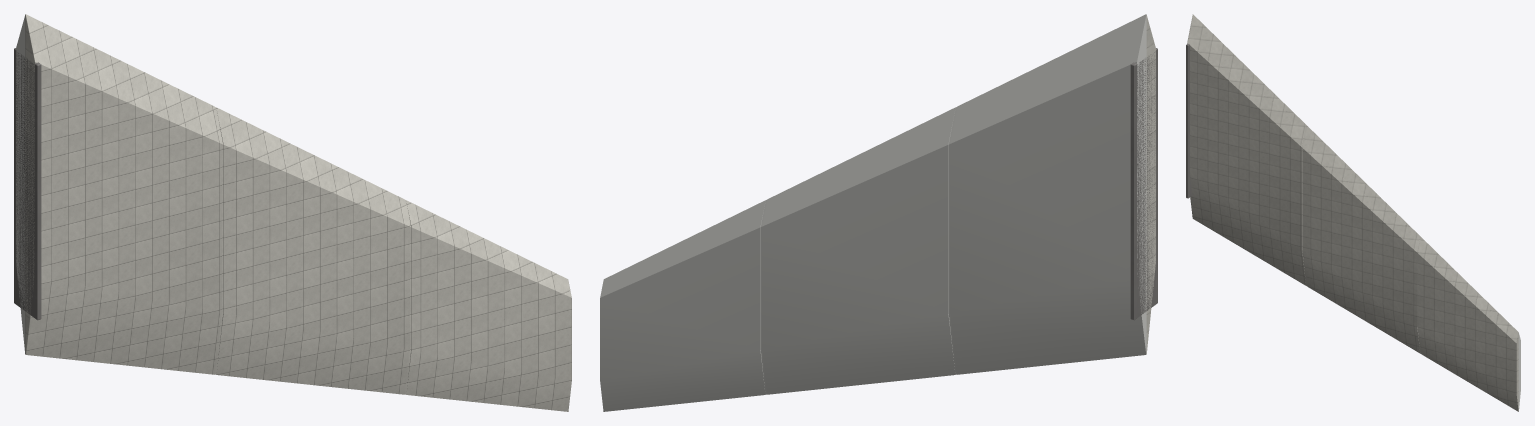
Rendered from ax_aero_18_wgs_swept_wing_m.glb.
3 renders of one model, left to right at view 1: azimuth 30°, elevation 25°; view 2: azimuth 150°, elevation 25°; view 3: azimuth 330°, elevation 25°, orthographic. The views are drawn at different scales.
Parts seen in each view (by area): view 1: wing_top, root_flange, wing_underside; view 2: wing_underside, root_flange, wing_top; view 3: wing_top, root_flange.
Boxes of the visible parts, x1,y1,x2,y2 form: wing_top: [25, 14, 571, 411]; root_flange: [14, 48, 41, 320]; wing_underside: [16, 15, 25, 353]; wing_underside: [600, 14, 1146, 411]; root_flange: [1130, 48, 1157, 320]; wing_top: [1146, 15, 1155, 353]; wing_top: [1187, 14, 1518, 411]; root_flange: [1186, 44, 1192, 198].
Bounding box in the file's own units: 4.8 × 4.48 × 0.36.
Materials: 3 (2 with a texture image).
